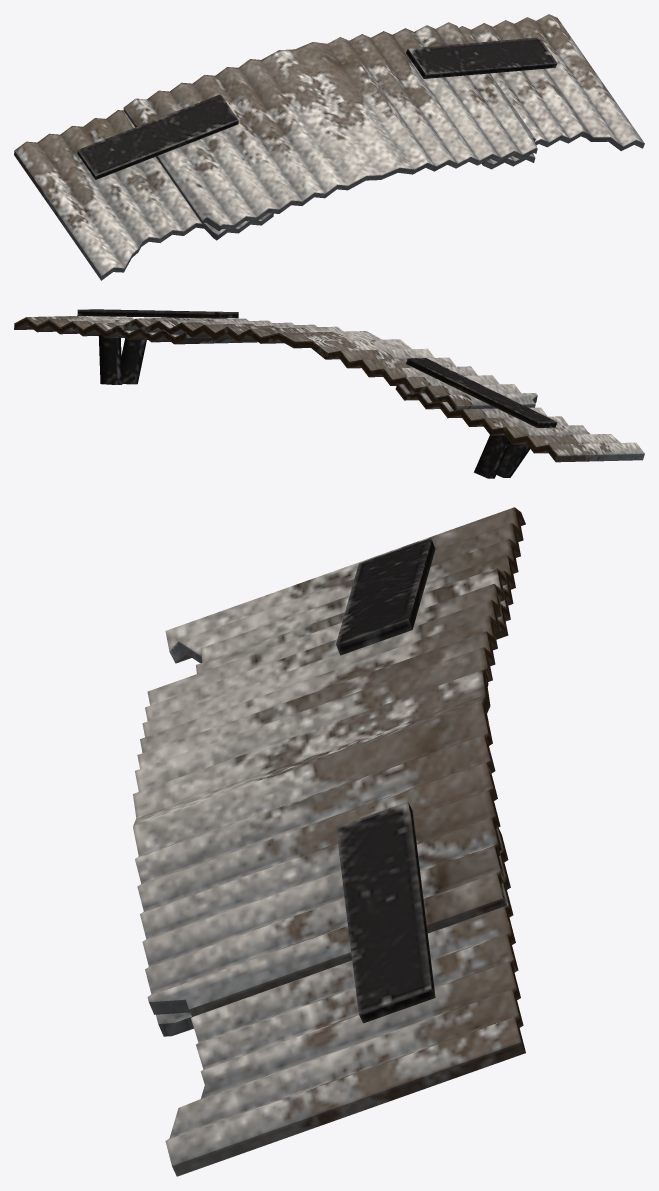
The model's file is G30Bumper_WorldItem.fbx.
3 views of the same model, one above another, from view 1: azimuth 30°, elevation 25°; view 2: azimuth 150°, elevation 25°; view 3: azimuth 270°, elevation 25° (orthographic). The views are drawn at different scales.
Parts seen in each view (by area): view 1: HoodArmor_obj; view 2: HoodArmor_obj; view 3: HoodArmor_obj.
Boxes of the visible parts, left/top/right/bottom form: HoodArmor_obj: left=14, top=14, right=644, bottom=280; HoodArmor_obj: left=14, top=309, right=644, bottom=478; HoodArmor_obj: left=133, top=507, right=525, bottom=1176.
Bounding box in the file's own units: 3.56 × 0.7069 × 1.12.
